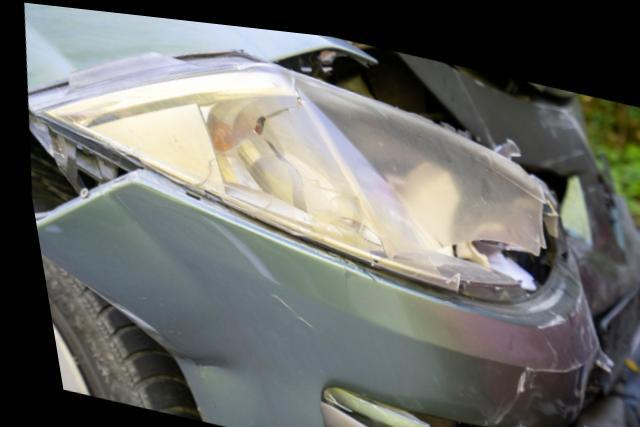dent: (134, 326, 236, 383)
lamp broken: (27, 46, 555, 293)
no part: (25, 114, 119, 222)
